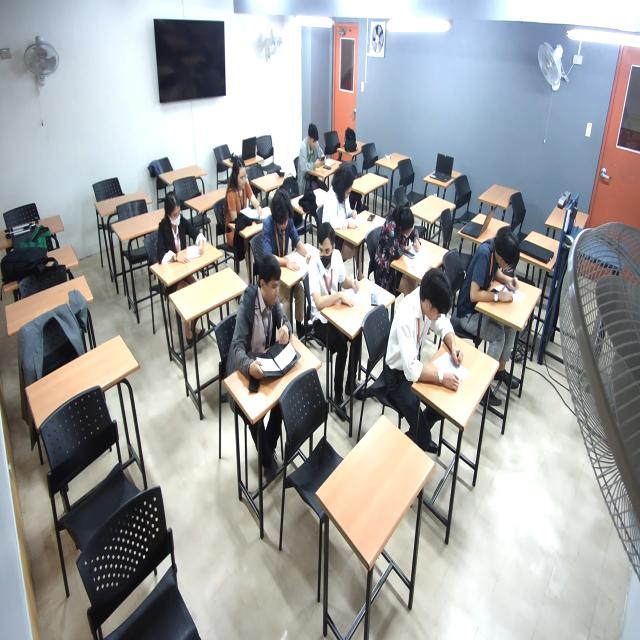read: (402, 276, 472, 403), (237, 255, 301, 389), (265, 194, 320, 278), (309, 239, 364, 319), (155, 187, 209, 266), (476, 225, 526, 305), (380, 201, 430, 261), (327, 171, 366, 242), (226, 165, 272, 223), (298, 125, 332, 180)
